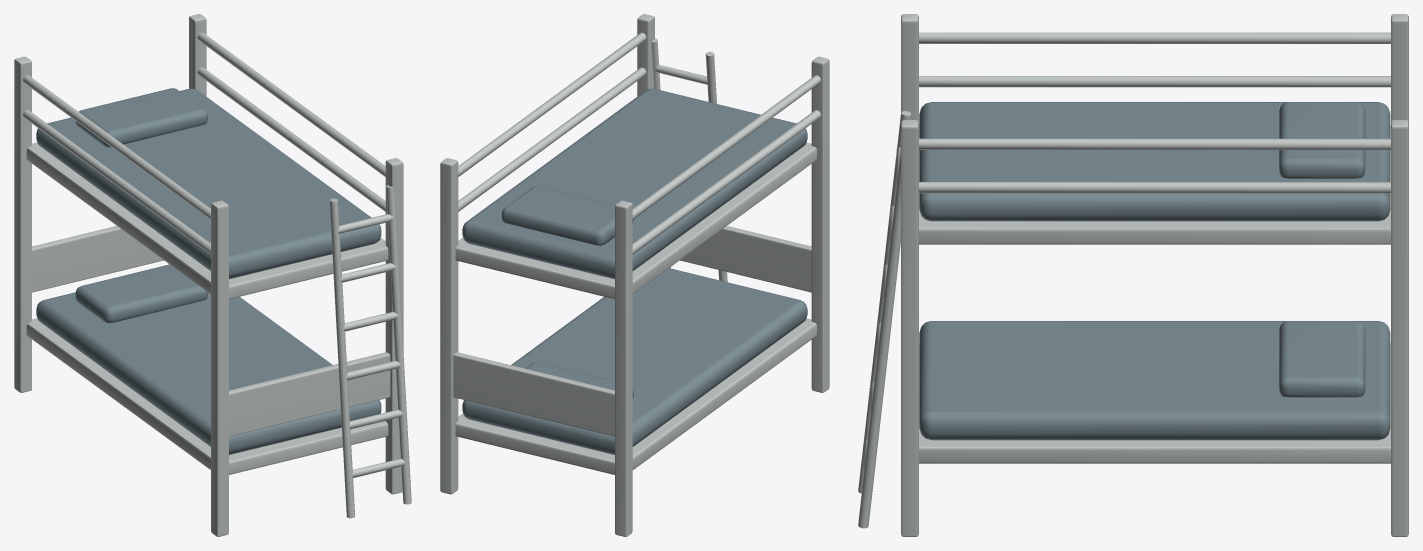
Rendered from bunk-bed.glb.
The picture shows the model from 3 angles, left to right: view 1: azimuth 30°, elevation 25°; view 2: azimuth 150°, elevation 25°; view 3: azimuth 270°, elevation 25°; orthographic projection. The views are drawn at different scales.
Visible parts, largest first — view 1: mattress.001, mattress, bed_platform.001, bed_platform, bed_end.001, bed_post.001, bed_post, bed_end, pillow, pillow.001, bed_post.003, ladder_rail (+10 smaller); view 2: mattress.001, mattress, bed_platform, bed_platform.001, bed_end, bed_post.002, bed_post, bed_post.001, bed_end.001, pillow.001, upper_guard, upper_guard.001 (+5 smaller); view 3: mattress, mattress.001, bed_platform, bed_platform.001, bed_post.002, bed_post.003, pillow, pillow.001, upper_guard, upper_guard.001, upper_guard.002, upper_guard.003 (+4 smaller).
Part boxes in pixels (x1,y1,x2,y2): mattress.001: (36, 88, 381, 279); mattress: (36, 292, 381, 454); bed_platform.001: (26, 142, 388, 299); bed_platform: (26, 318, 388, 474); bed_end.001: (229, 352, 390, 436); bed_post.001: (211, 200, 228, 536); bed_post: (14, 56, 31, 392); bed_end: (32, 226, 163, 292); pillow: (75, 264, 207, 322); pillow.001: (75, 88, 207, 147); bed_post.003: (385, 158, 403, 494); ladder_rail: (329, 198, 354, 518); mattress.001: (462, 88, 807, 279); mattress: (462, 268, 807, 454); bed_platform: (455, 318, 816, 474); bed_platform.001: (455, 142, 816, 299); bed_end: (453, 352, 614, 436); bed_post.002: (440, 158, 458, 494); bed_post: (615, 200, 632, 536); bed_post.001: (811, 56, 829, 392); bed_end.001: (680, 226, 811, 292); pillow.001: (501, 186, 633, 245); upper_guard: (632, 110, 820, 254); upper_guard.001: (632, 75, 820, 219); mattress: (919, 321, 1390, 440); mattress.001: (919, 102, 1390, 221); bed_platform: (919, 343, 1390, 463); bed_platform.001: (919, 124, 1390, 244); bed_post.002: (1391, 120, 1408, 536); bed_post.003: (901, 120, 918, 536); pillow: (1279, 321, 1365, 397); pillow.001: (1279, 102, 1365, 178); upper_guard: (919, 76, 1390, 87); upper_guard.001: (919, 32, 1390, 43); upper_guard.002: (919, 182, 1390, 193); upper_guard.003: (919, 138, 1390, 149).
Size of the model in its own units: 1.12 by 1.9 by 2.3.
